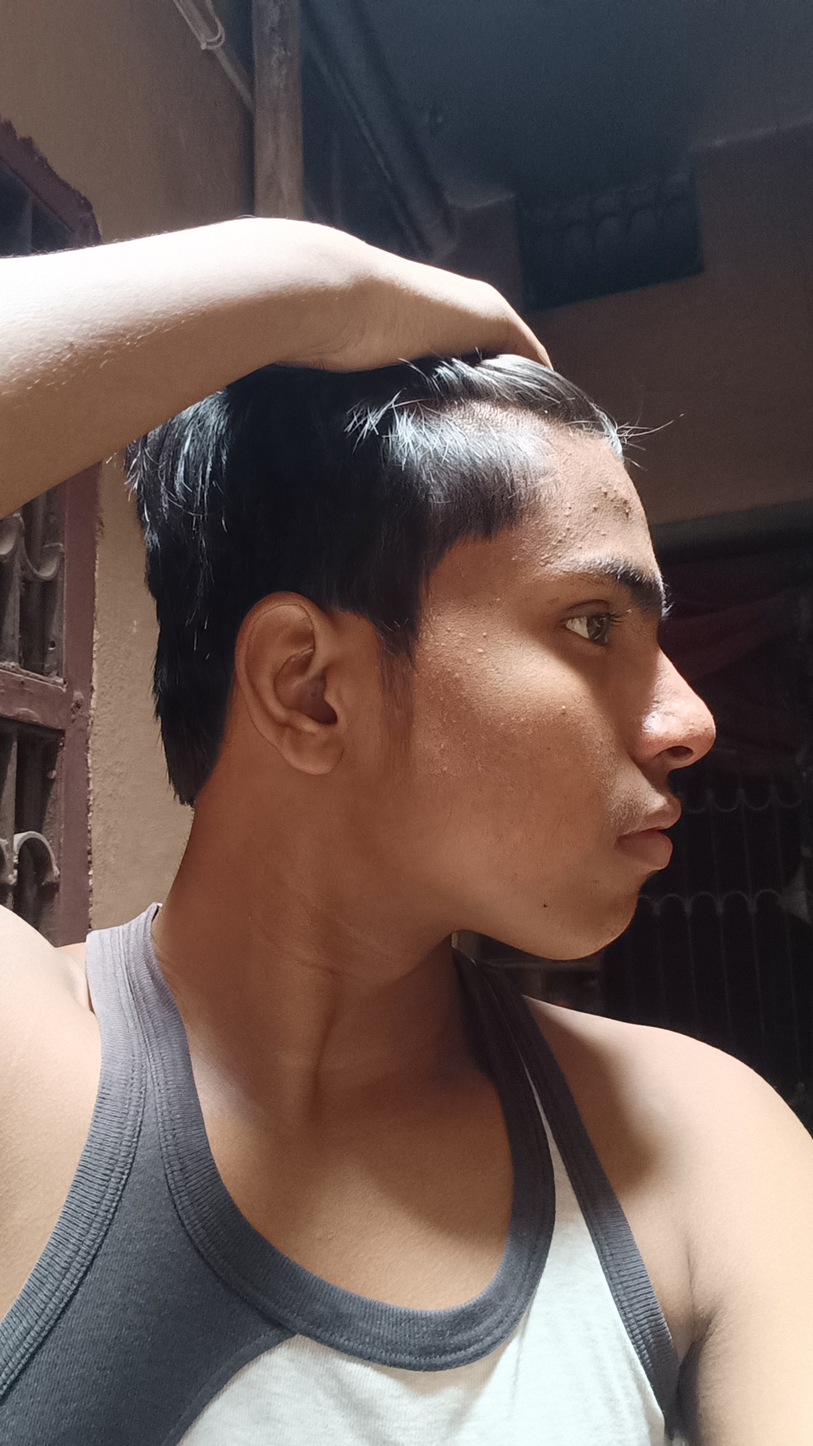pustule: (480, 632, 489, 639), (519, 716, 526, 723), (477, 648, 485, 654), (561, 704, 567, 711), (496, 596, 501, 603), (441, 642, 445, 648)
